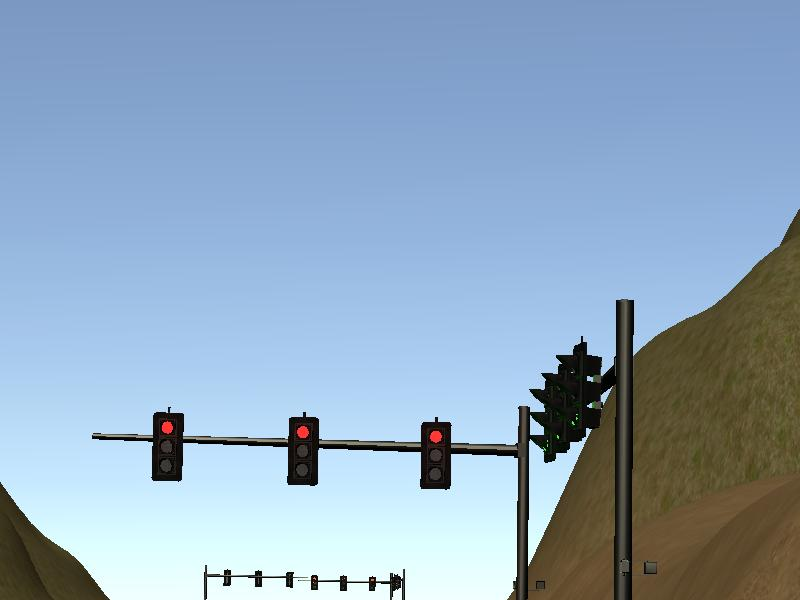red: (287, 416, 320, 486), (152, 411, 185, 480), (421, 419, 452, 489)
